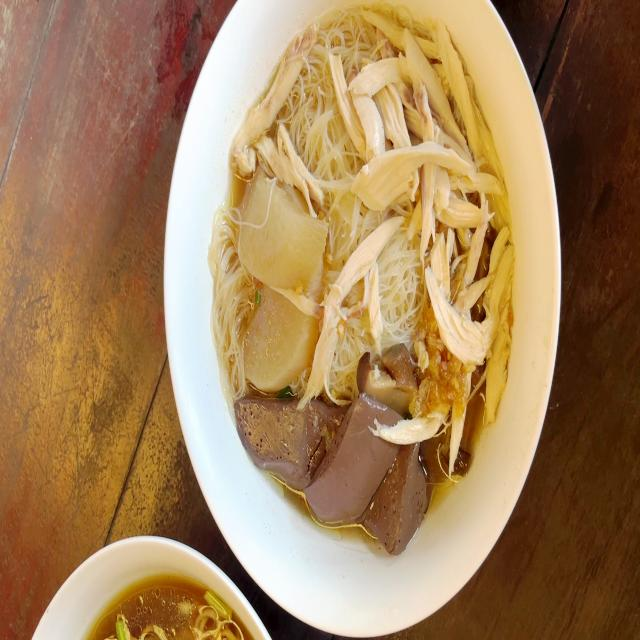boiled_chicken_blood_jelly: (233, 398, 335, 482), (329, 395, 384, 529), (384, 448, 432, 544)
chicken_shredded: (341, 13, 509, 454), (228, 26, 318, 166)
daikon_radish: (223, 166, 329, 292), (242, 292, 308, 382)
noodle: (214, 0, 514, 561)
